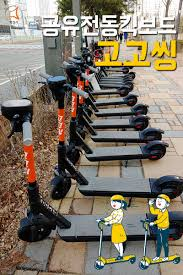kick_body: (86, 176, 154, 195), (94, 131, 141, 139), (92, 118, 130, 125), (97, 99, 124, 103)
kick_handler: (4, 86, 33, 144), (39, 72, 87, 96)
kick_neck: (25, 144, 40, 210), (57, 101, 67, 169), (72, 93, 78, 146)
kick_wheel: (19, 215, 50, 241), (50, 175, 72, 200), (146, 142, 166, 161), (134, 115, 148, 130), (127, 94, 137, 105)
